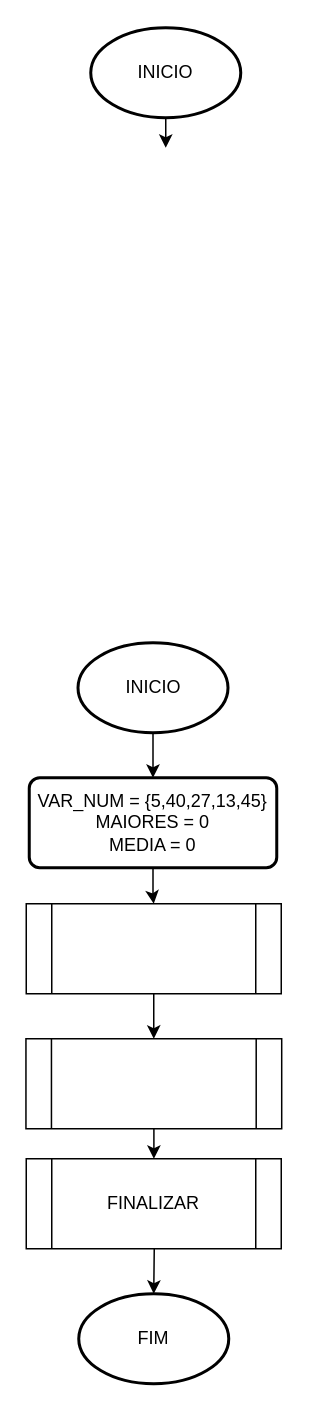
This 309x1410 diagram has some shape labels left out. Here are the shapes that lost their labels. From the top down, the centre of each, then its label:
At point 153,948: "OBTER_MEDIA".
At point 153,1083: "VALORES_MAIORES".
